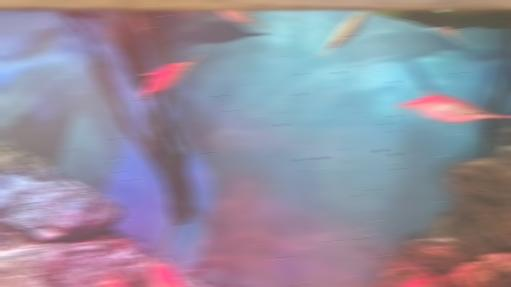Fish: (398, 90, 510, 122), (136, 54, 201, 101), (169, 20, 266, 44), (318, 10, 367, 57), (142, 257, 179, 286), (216, 9, 267, 28), (436, 26, 465, 43), (130, 11, 147, 35), (108, 272, 118, 286), (411, 278, 427, 286), (434, 9, 452, 12)
